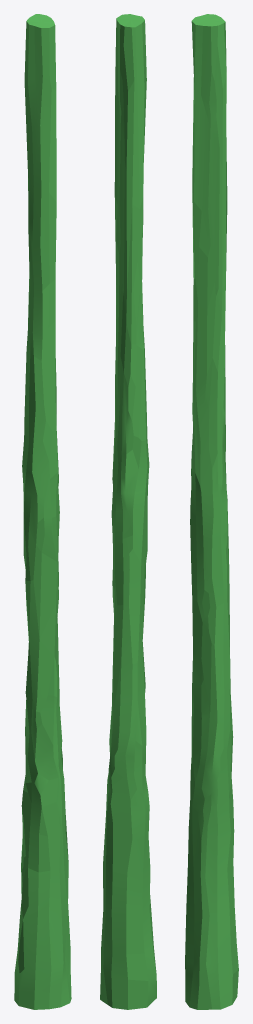
The model's file is jungle_tree_tall_B.fbx.
The picture shows the model from 3 angles, left to right: view 1: azimuth 30°, elevation 25°; view 2: azimuth 210°, elevation 25°; view 3: azimuth 270°, elevation 25°; orthographic projection.
Parts seen in each view (by area): view 1: jungle_tree_tall_B; view 2: jungle_tree_tall_B; view 3: jungle_tree_tall_B.
Boxes of the visible parts, <box> form: jungle_tree_tall_B: <box>14,14,71,1009</box>; jungle_tree_tall_B: <box>100,14,156,1009</box>; jungle_tree_tall_B: <box>185,14,238,1009</box>.
Bounding box in the file's own units: 81.29 × 1563 × 78.05.
